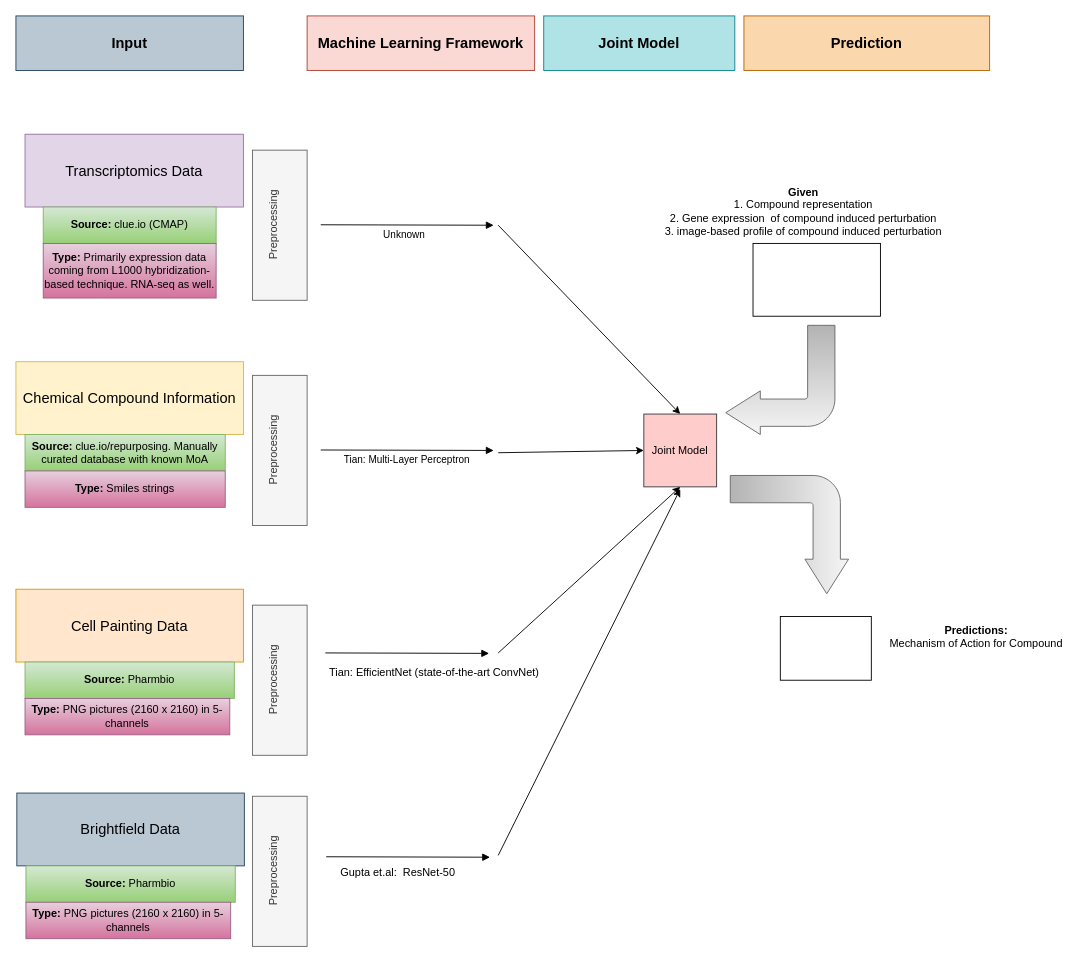
This 1087x963 diagram has some shape labels left out. The shapes that lost their labels are listed below. From the top down, each one's box as (x1, y1, x2, y2) in pixels, then its label:
(752, 243, 880, 316): Unknown Compound 1 Unknown Compound 2 Unknown Compound 3
(779, 616, 871, 680): MoA 1 MoA 2 MoA 3
